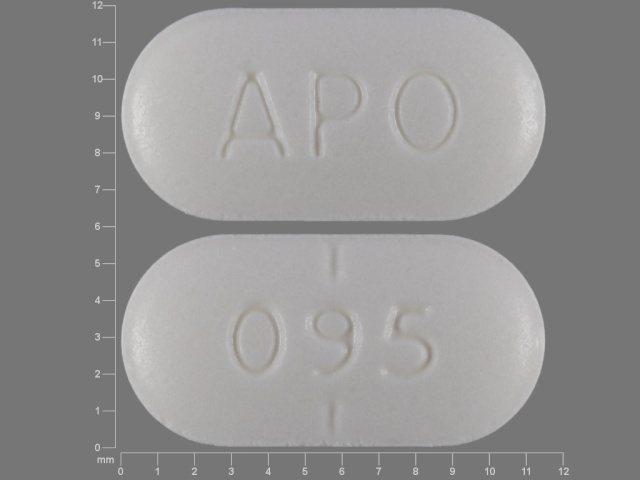0: (225, 298, 285, 382)
5: (375, 299, 444, 381)
9: (302, 296, 362, 382)
A: (207, 67, 293, 170)
O: (387, 64, 462, 156)
P: (312, 63, 366, 166)
